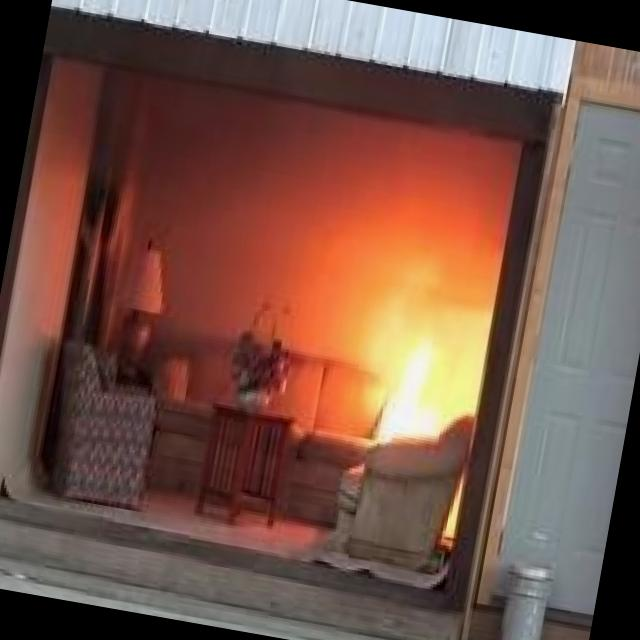fire: (354, 291, 484, 445)
